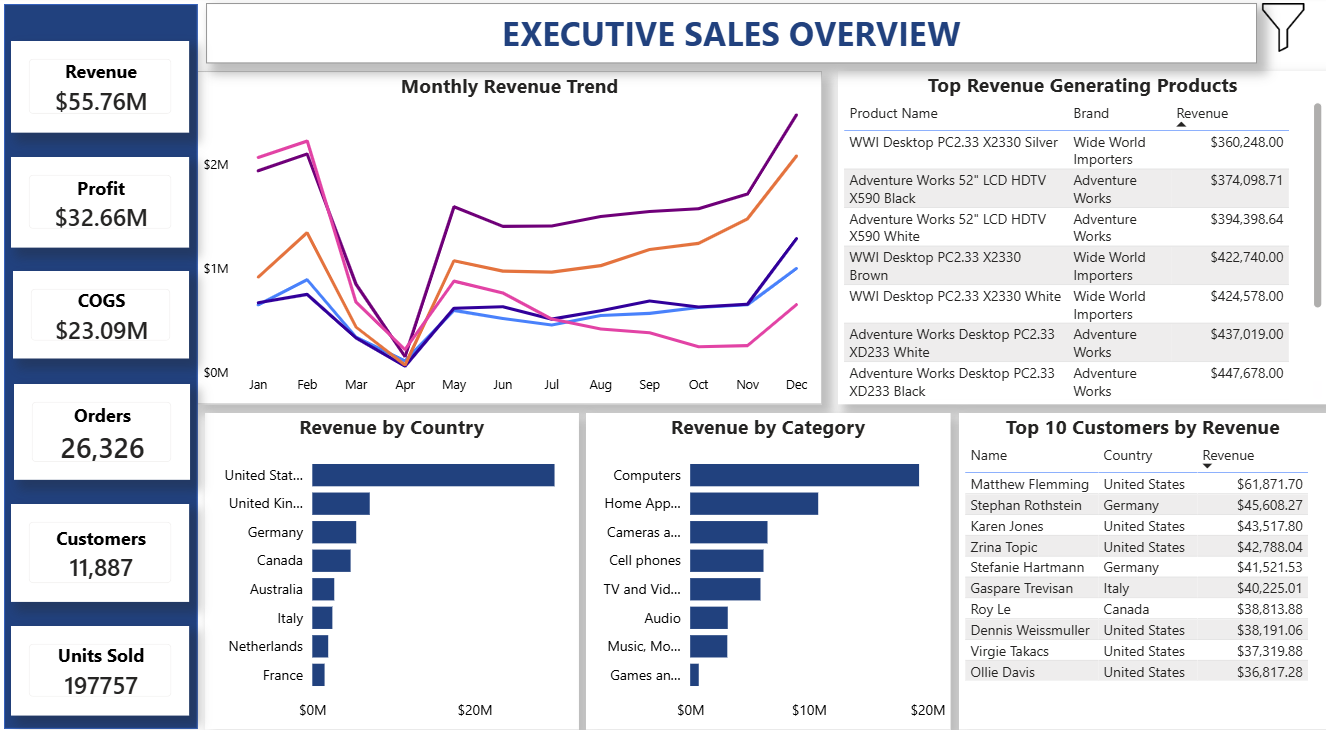

The dashboard page shown, as its layout file describes it:
{"tool":"powerbi","page":{"name":"Overview","canvas":[1280,720],"ordinal":9},"visuals":[{"type":"lineChart","title":"Monthly Revenue Trend ","fields":{"Category":["Date.Month Name Short"],"Series":["Date.Year"],"Y":["Sales.Revenue"]},"box":[185.7,71.7,600.2,320.2],"z":0},{"type":"tableEx","title":"Top Revenue Generating Products","fields":{"Values":["Products.Product Name","Products.Brand","Sales.Total Revenue"]},"box":[800.6,71.7,469.6,320.2],"z":1000},{"type":"clusteredBarChart","fields":{"Category":["Customers.Country"],"Y":["Sales.Total Revenue"]},"box":[192.5,400.8,358.6,303.5],"z":2000},{"type":"clusteredBarChart","fields":{"Category":["Products.Category"],"Y":["Sales.Total Revenue"]},"box":[559,400.8,349.7,303.5],"z":3000},{"type":"tableEx","title":"Top 10 Customers by Revenue ","fields":{"Values":["Customers.Name","Customers.Country","Sales.Total Revenue"]},"box":[916.5,400.8,352.7,303.5],"z":4000},{"type":"shape","box":[0,8,186,695.9],"z":5000},{"type":"cardVisual","fields":{"Data":["Sales.Revenue"]},"box":[7,43,171.1,87.8],"z":6000},{"type":"cardVisual","fields":{"Data":["Sales.Profit"]},"box":[7,154.3,171.1,86.7],"z":7000},{"type":"cardVisual","fields":{"Data":["Sales.Cost of goods sold"]},"box":[9,264.4,168.8,84.4],"z":8000},{"type":"cardVisual","fields":{"Data":["Sales.Total orders"]},"box":[10,372.2,168.8,92.4],"z":9000},{"type":"cardVisual","fields":{"Data":["Sales.Total customers with sales"]},"box":[7,488,171.1,93.5],"z":10000},{"type":"cardVisual","fields":{"Data":["Sales.Total Qty"]},"box":[7,605,171.1,85.6],"z":11000},{"type":"textbox","box":[193.5,6.9,1008.9,58],"z":12000},{"type":"image","box":[1187,7,83,47],"z":17000}]}

Visuals, with their boxes in screenshot pixels (x1, y1, x2, y2), scaled from the page's 1280x720 canvas onto the 1326x730 screenshot:
"Monthly Revenue Trend " lineChart: left=192, top=73, right=814, bottom=397
"Top Revenue Generating Products" tableEx: left=829, top=73, right=1316, bottom=397
clusteredBarChart - Customers.Country x Sales.Total Revenue: left=199, top=406, right=571, bottom=714
clusteredBarChart - Products.Category x Sales.Total Revenue: left=579, top=406, right=941, bottom=714
"Top 10 Customers by Revenue " tableEx: left=949, top=406, right=1315, bottom=714
shape: left=0, top=8, right=193, bottom=714
cardVisual - Sales.Revenue: left=7, top=44, right=185, bottom=133
cardVisual - Sales.Profit: left=7, top=156, right=185, bottom=244
cardVisual - Sales.Cost of goods sold: left=9, top=268, right=184, bottom=354
cardVisual - Sales.Total orders: left=10, top=377, right=185, bottom=471
cardVisual - Sales.Total customers with sales: left=7, top=495, right=185, bottom=590
cardVisual - Sales.Total Qty: left=7, top=613, right=185, bottom=700
textbox: left=200, top=7, right=1246, bottom=66
image: left=1230, top=7, right=1316, bottom=55
